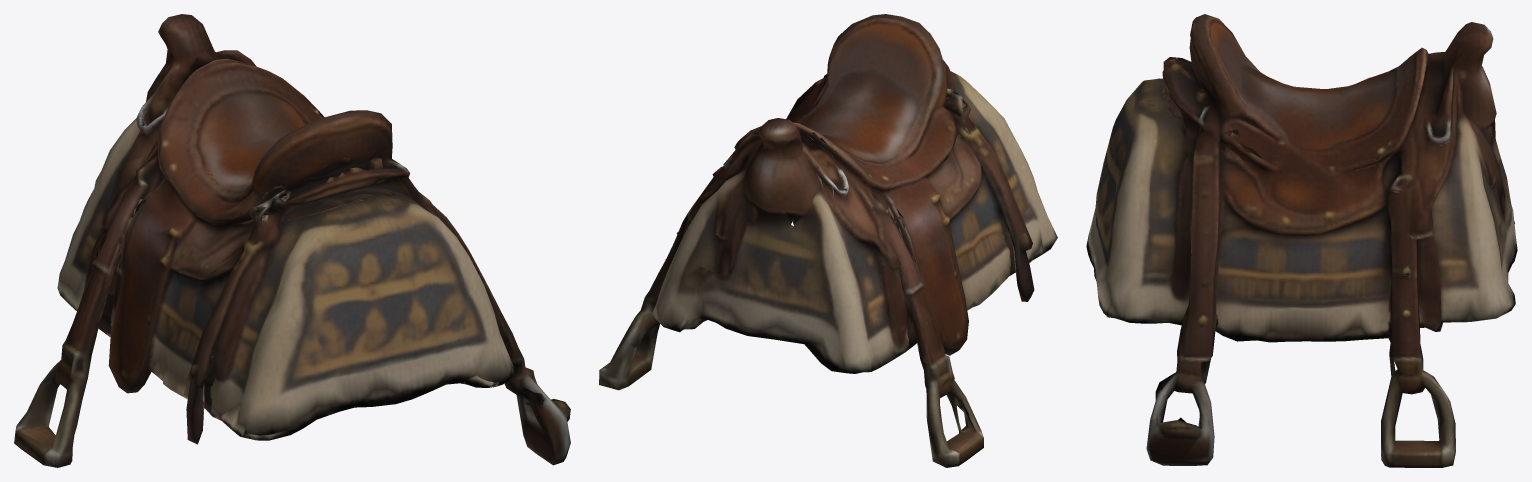
The model's file is saddle.glb.
3 views of the same model, side by side, from view 1: azimuth 30°, elevation 25°; view 2: azimuth 150°, elevation 25°; view 3: azimuth 270°, elevation 25° (orthographic). The views are drawn at different scales.
Parts seen in each view (by area): view 1: MV_FittedSaddle; view 2: MV_FittedSaddle; view 3: MV_FittedSaddle.
Boxes of the visible parts, <box> form: MV_FittedSaddle: <box>14,14,570,467</box>; MV_FittedSaddle: <box>599,14,1057,467</box>; MV_FittedSaddle: <box>1086,14,1517,467</box>.
Bounding box in the file's own units: 0.92 × 0.82 × 0.9.
1 material, 1 textured.
